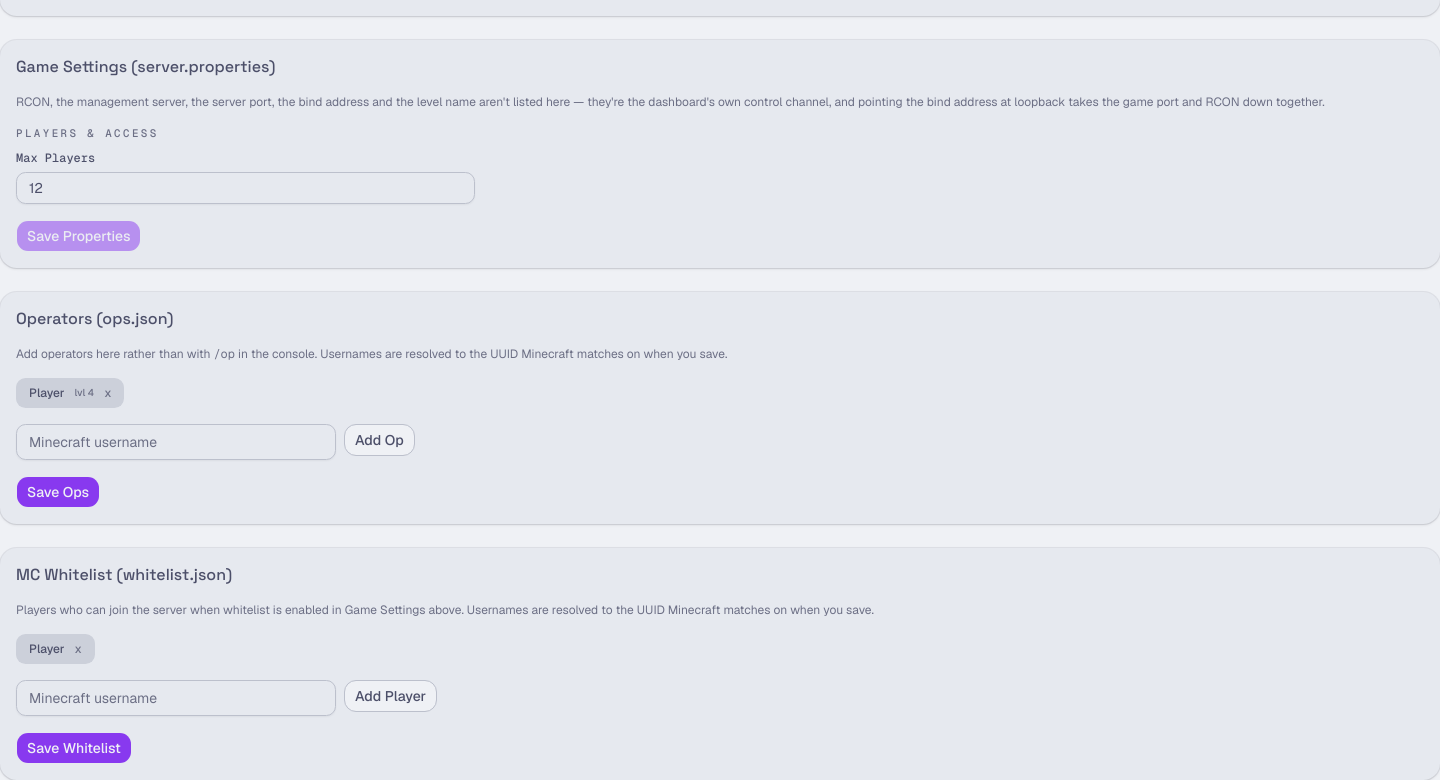
Test case: MC whitelist snapshots › includes its own read revision and recovers from stale refusal
(page scrolled)
Click the button "Save Whitelist" at {"x": 74, "y": 748}, box [16,732,132,764]
(page scrolled)
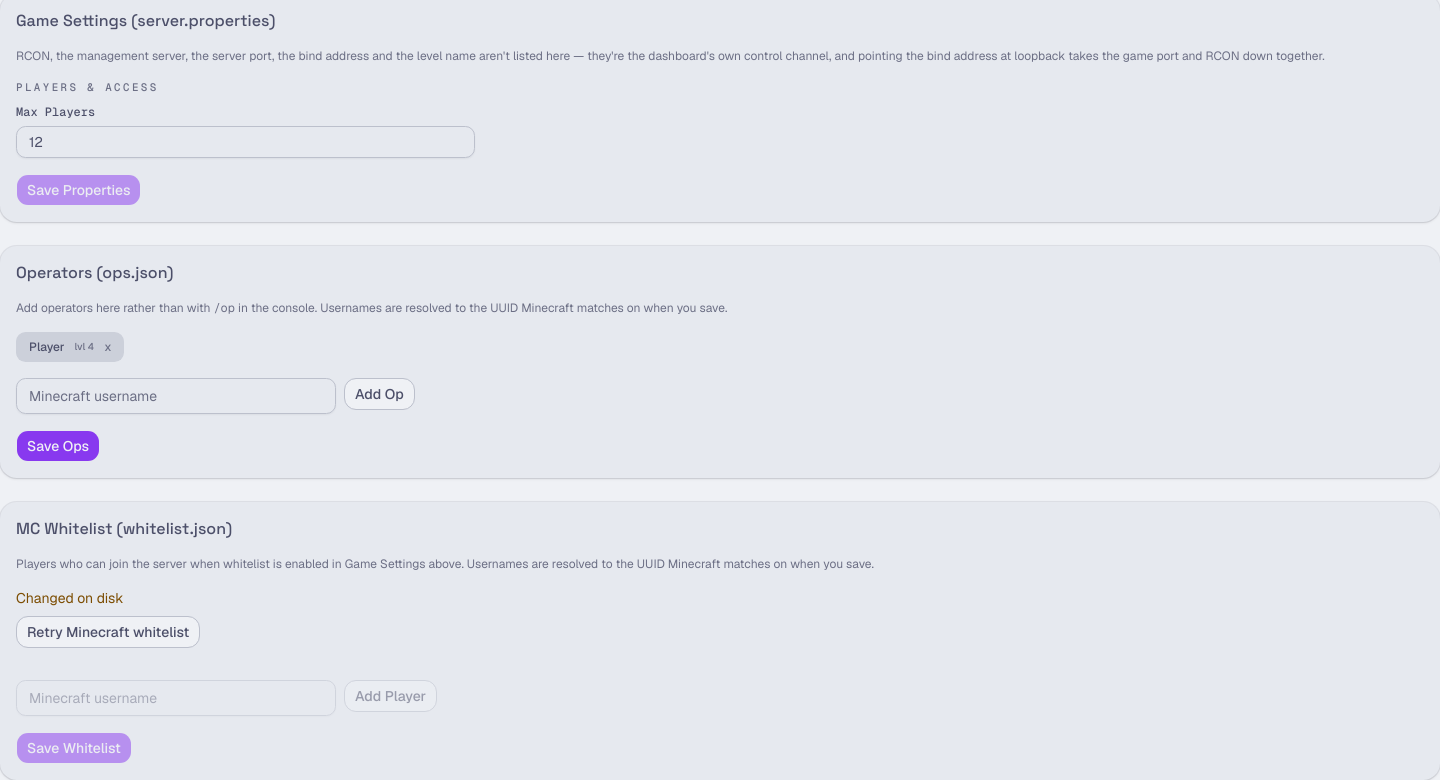
Expected: the button "Retry Minecraft whitelist" is shown, [16,616,200,648]
Expected: the button "Save Whitelist" is disabled, [16,732,132,764]
